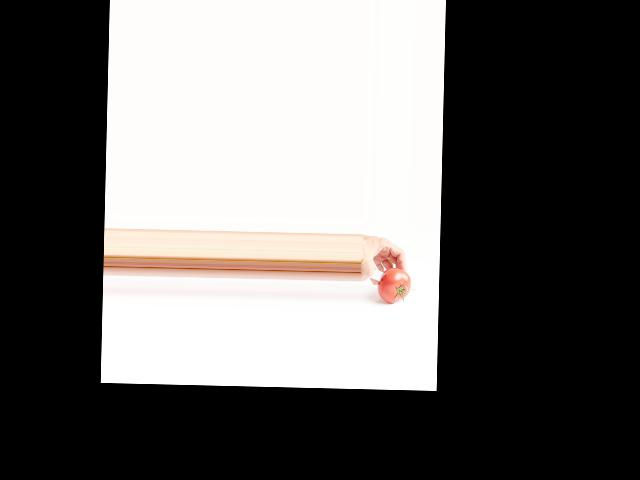tomato: (377, 267, 411, 303)
